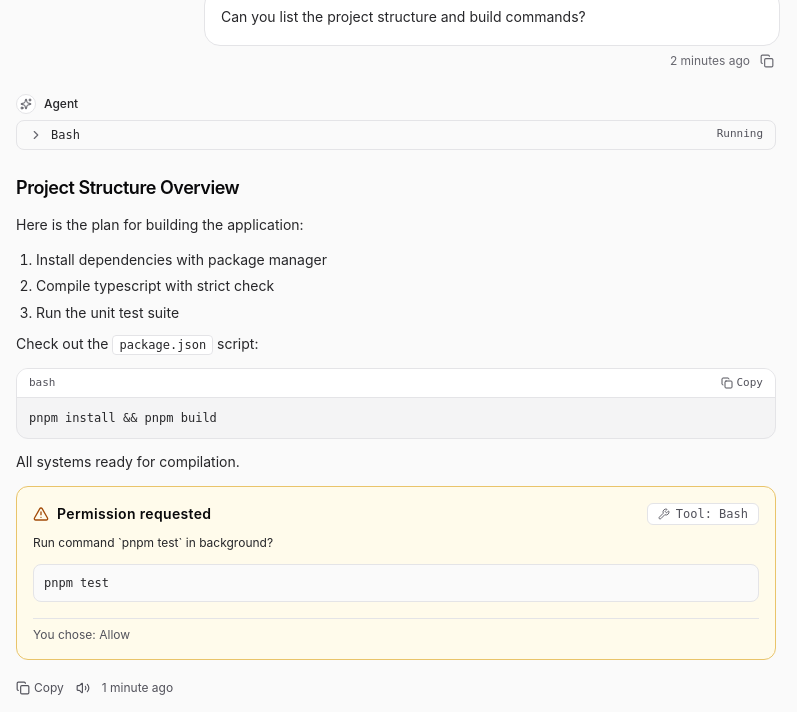
Test: ChatCanvas Component › stops speaking and restores the Read aloud label when Stop reading is clicked
(page scrolled)
Click the button named "read aloud". click: (83, 688)
box: [76,681,90,695]
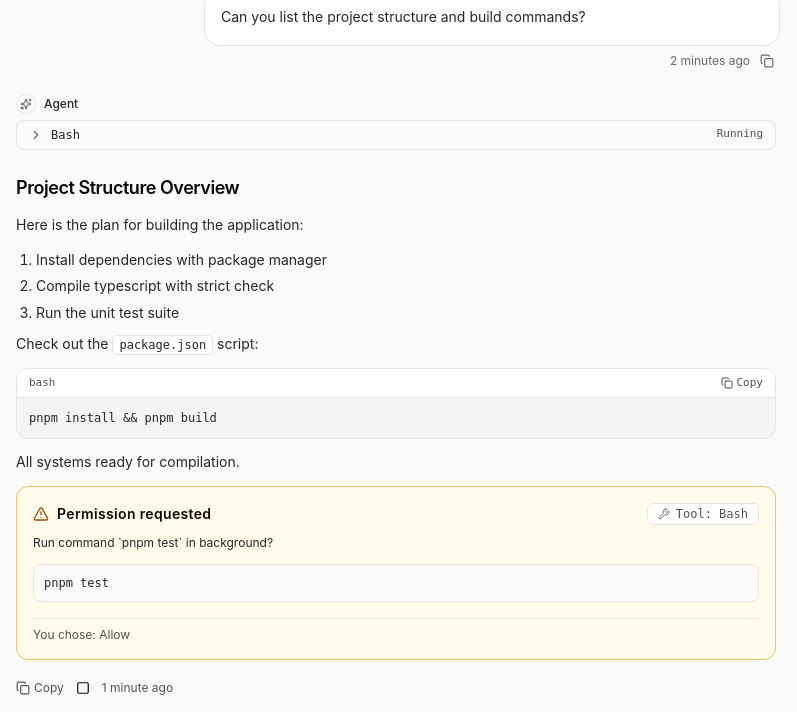
Click the button named "stop reading". click: (83, 688)
box: [76,681,90,695]
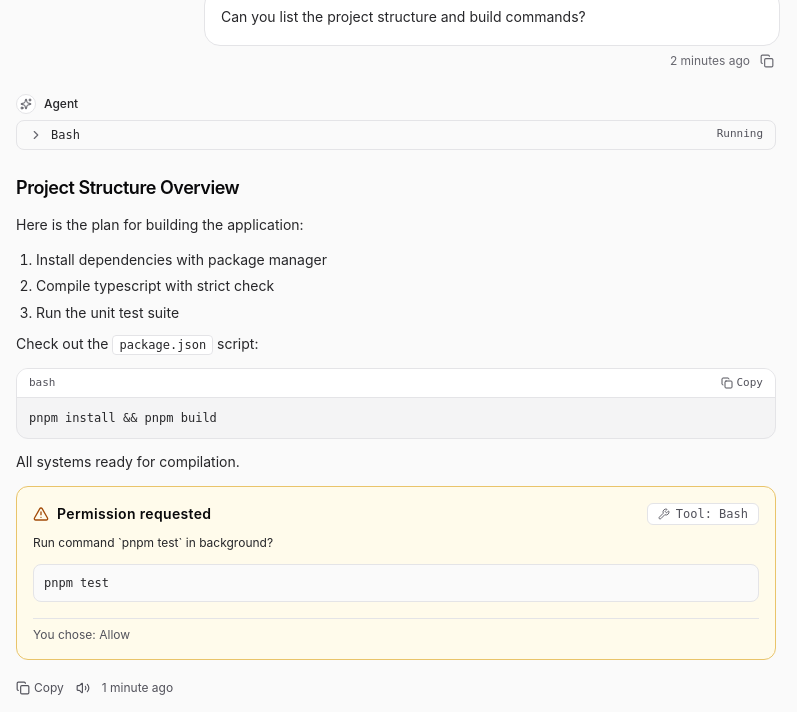
Now the button named "read aloud" is shown, box [76,681,90,695]
